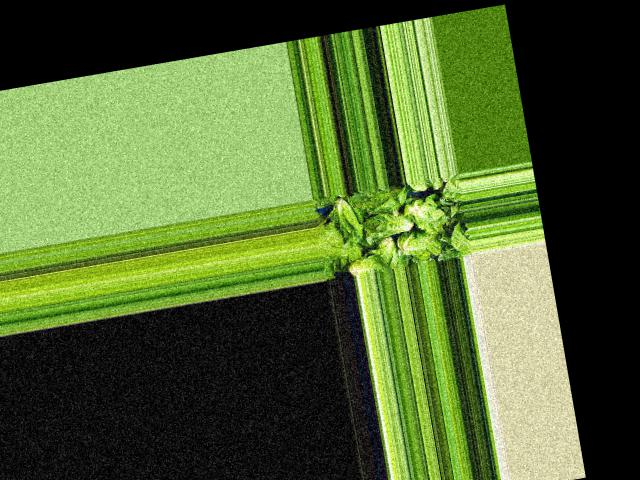lettuce: (339, 250, 392, 277)
